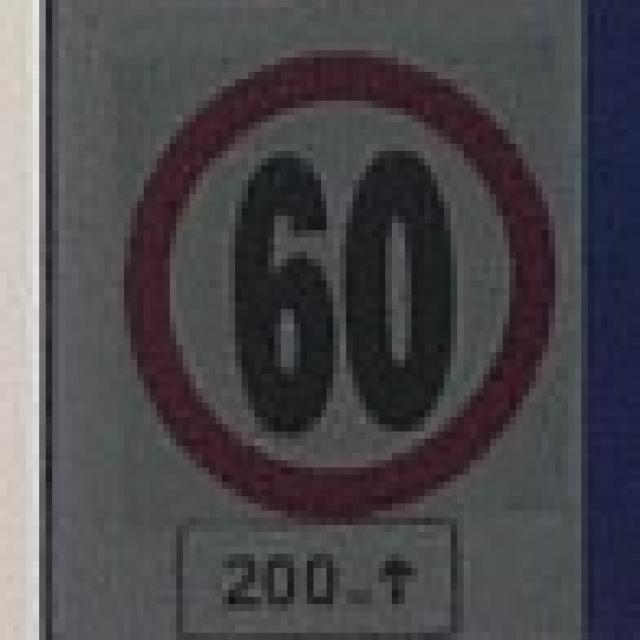Speed Limit -60-: (228, 140, 462, 441)
